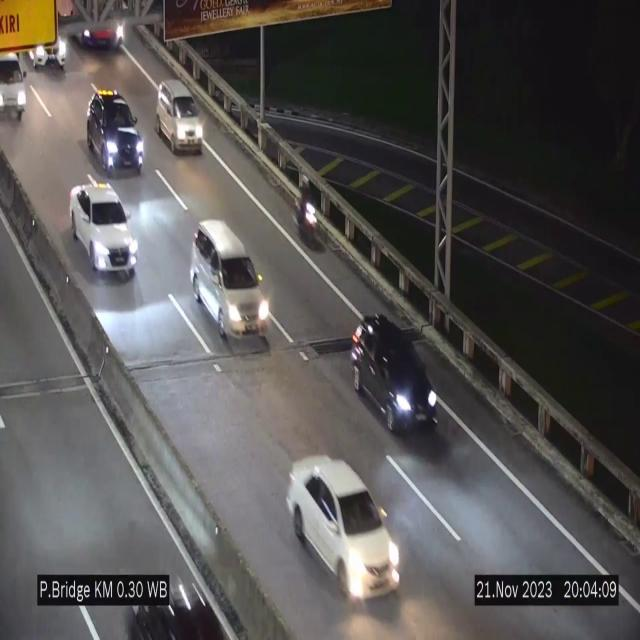Bus: (55, 0, 125, 50)
Car: (288, 457, 400, 597), (349, 314, 443, 442), (190, 220, 272, 346), (70, 183, 136, 274), (85, 84, 146, 178), (156, 80, 203, 155)
Motorcycle: (291, 168, 323, 256)
Truck: (0, 43, 30, 128)
